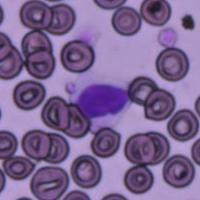L: (70, 72, 130, 128)
